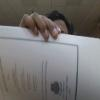notebook: (0, 24, 99, 99)
